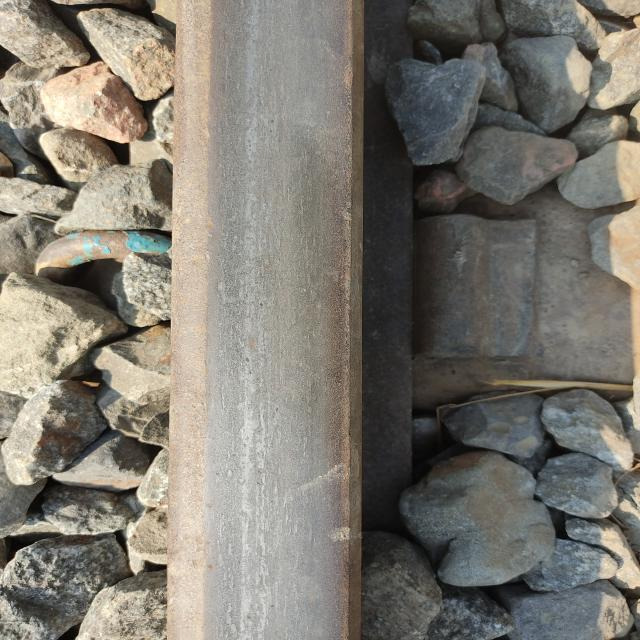non-defective: (111, 119, 538, 606)
